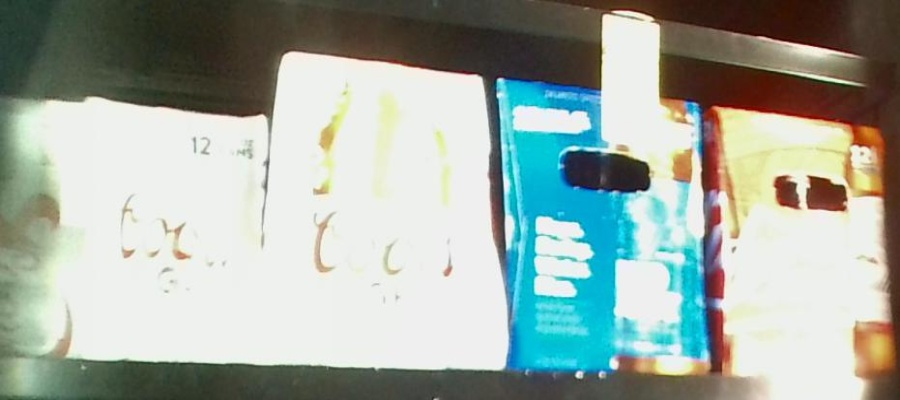bottle: (274, 48, 506, 374), (499, 75, 707, 384), (713, 108, 895, 384), (61, 97, 261, 343)
